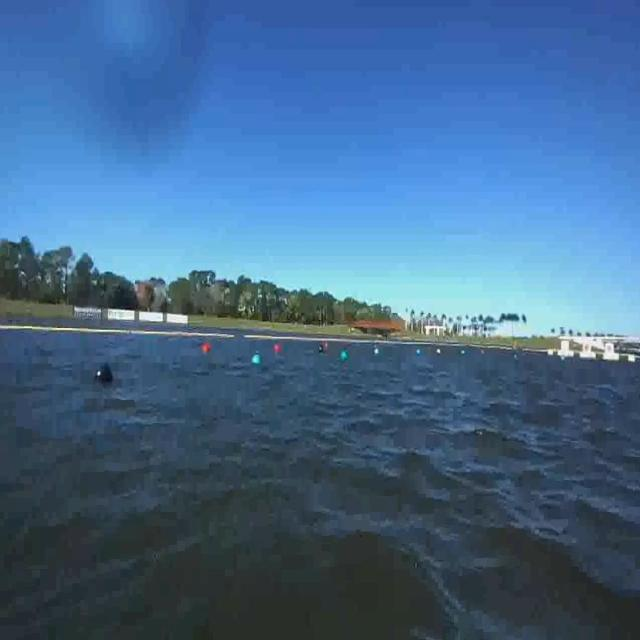black-buoy: (96, 365, 114, 386)
green-buoy: (252, 354, 262, 366)
red-buoy: (203, 344, 212, 353), (275, 345, 281, 353)
